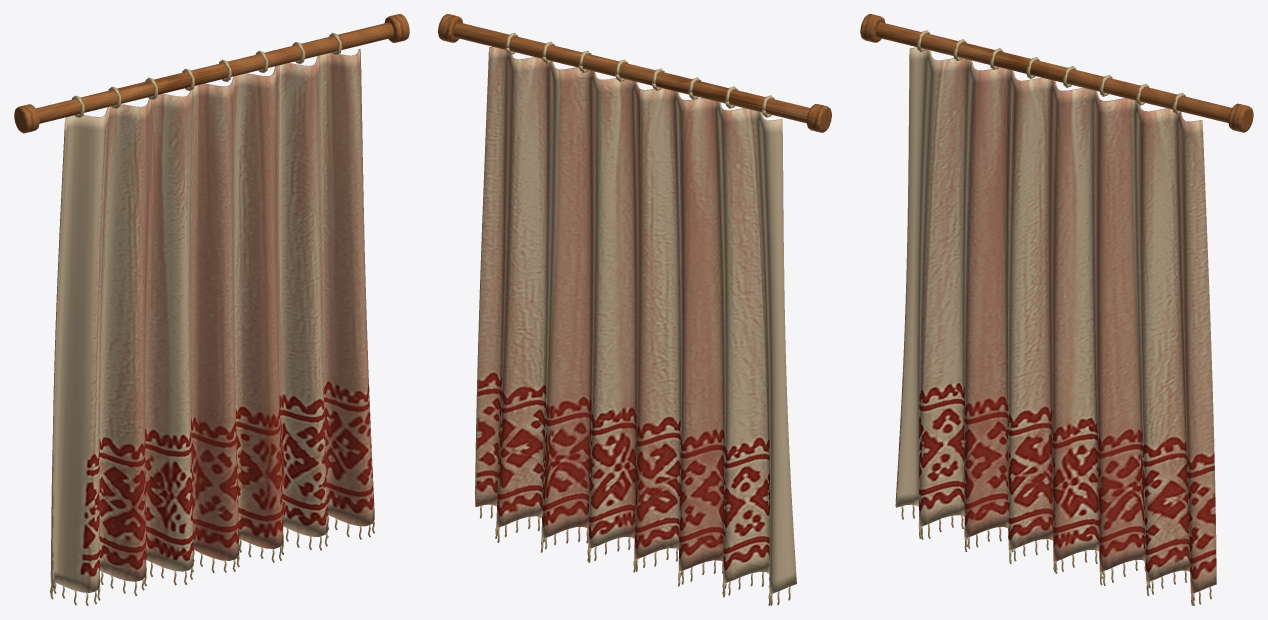
Rendered from embroidered-curtain.glb.
3 views of the same model, side by side, from view 1: azimuth 30°, elevation 25°; view 2: azimuth 150°, elevation 25°; view 3: azimuth 330°, elevation 25° (orthographic).
Parts seen in each view (by area): view 1: Gathered embroidered panel, Oiled curtain rod, Hanging loops and knotted hem, Lathed rod finial; view 2: Gathered embroidered panel, Oiled curtain rod, Hanging loops and knotted hem, Lathed rod finial; view 3: Gathered embroidered panel, Oiled curtain rod, Hanging loops and knotted hem, Lathed rod finial.001.
Boxes of the visible parts, x1,y1,x2,y2 form: Gathered embroidered panel: [50, 49, 374, 592]; Oiled curtain rod: [36, 22, 393, 123]; Hanging loops and knotted hem: [50, 32, 374, 605]; Lathed rod finial: [14, 104, 39, 133]; Gathered embroidered panel: [475, 46, 796, 593]; Oiled curtain rod: [453, 22, 810, 123]; Hanging loops and knotted hem: [479, 32, 790, 605]; Lathed rod finial: [806, 104, 831, 132]; Gathered embroidered panel: [895, 47, 1216, 593]; Oiled curtain rod: [876, 22, 1231, 122]; Hanging loops and knotted hem: [901, 30, 1211, 605]; Lathed rod finial.001: [1228, 103, 1253, 132].
Size of the model in its own units: 0.747 by 0.9499 by 0.0798.
Materials: 3 (3 with a texture image).
